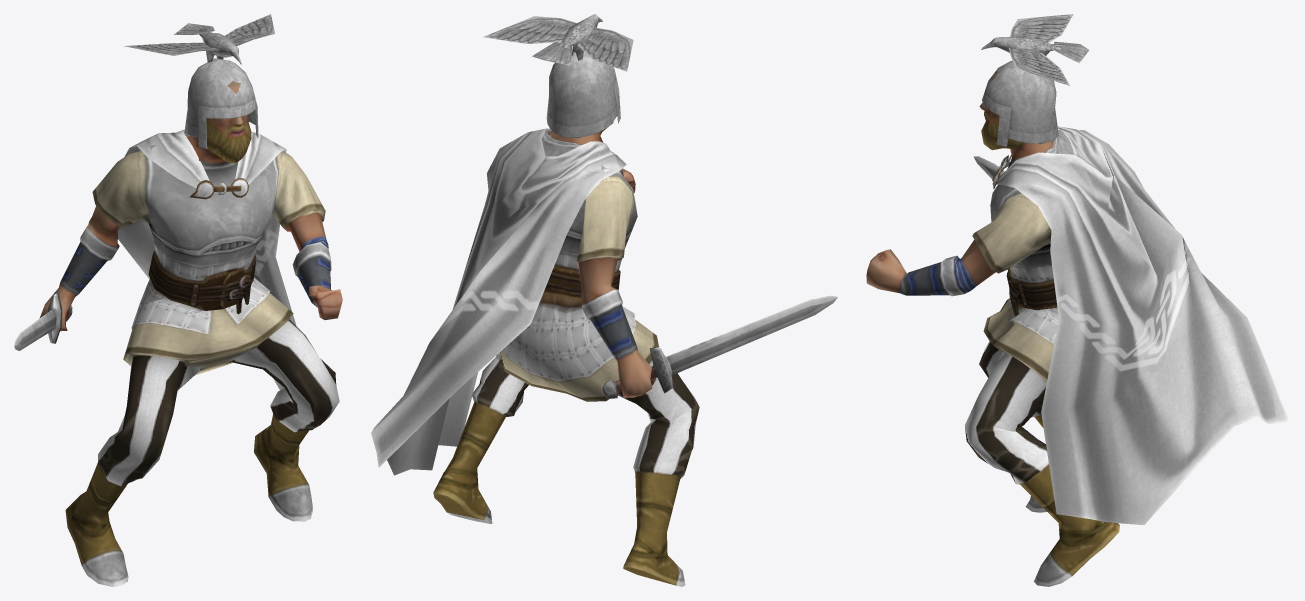
Rendered from rider-heavycavalry.glb.
3 renders of one model, left to right at view 1: azimuth 30°, elevation 25°; view 2: azimuth 150°, elevation 25°; view 3: azimuth 270°, elevation 25°, orthographic. The views are drawn at different scales.
Bounding box in the file's own units: 1.46 × 2.06 × 1.53.
Materials: 3 (3 with a texture image).
